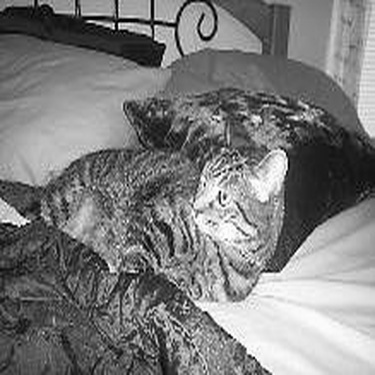cat: (9, 76, 306, 306)
